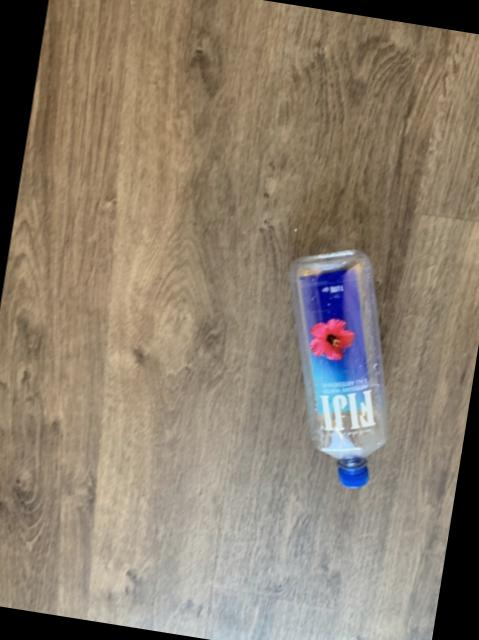plastic: (290, 252, 387, 489)
